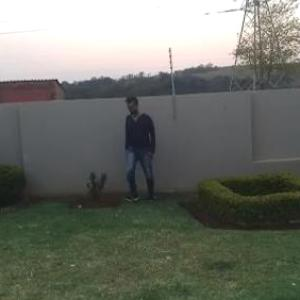follow: (125, 93, 158, 204)
